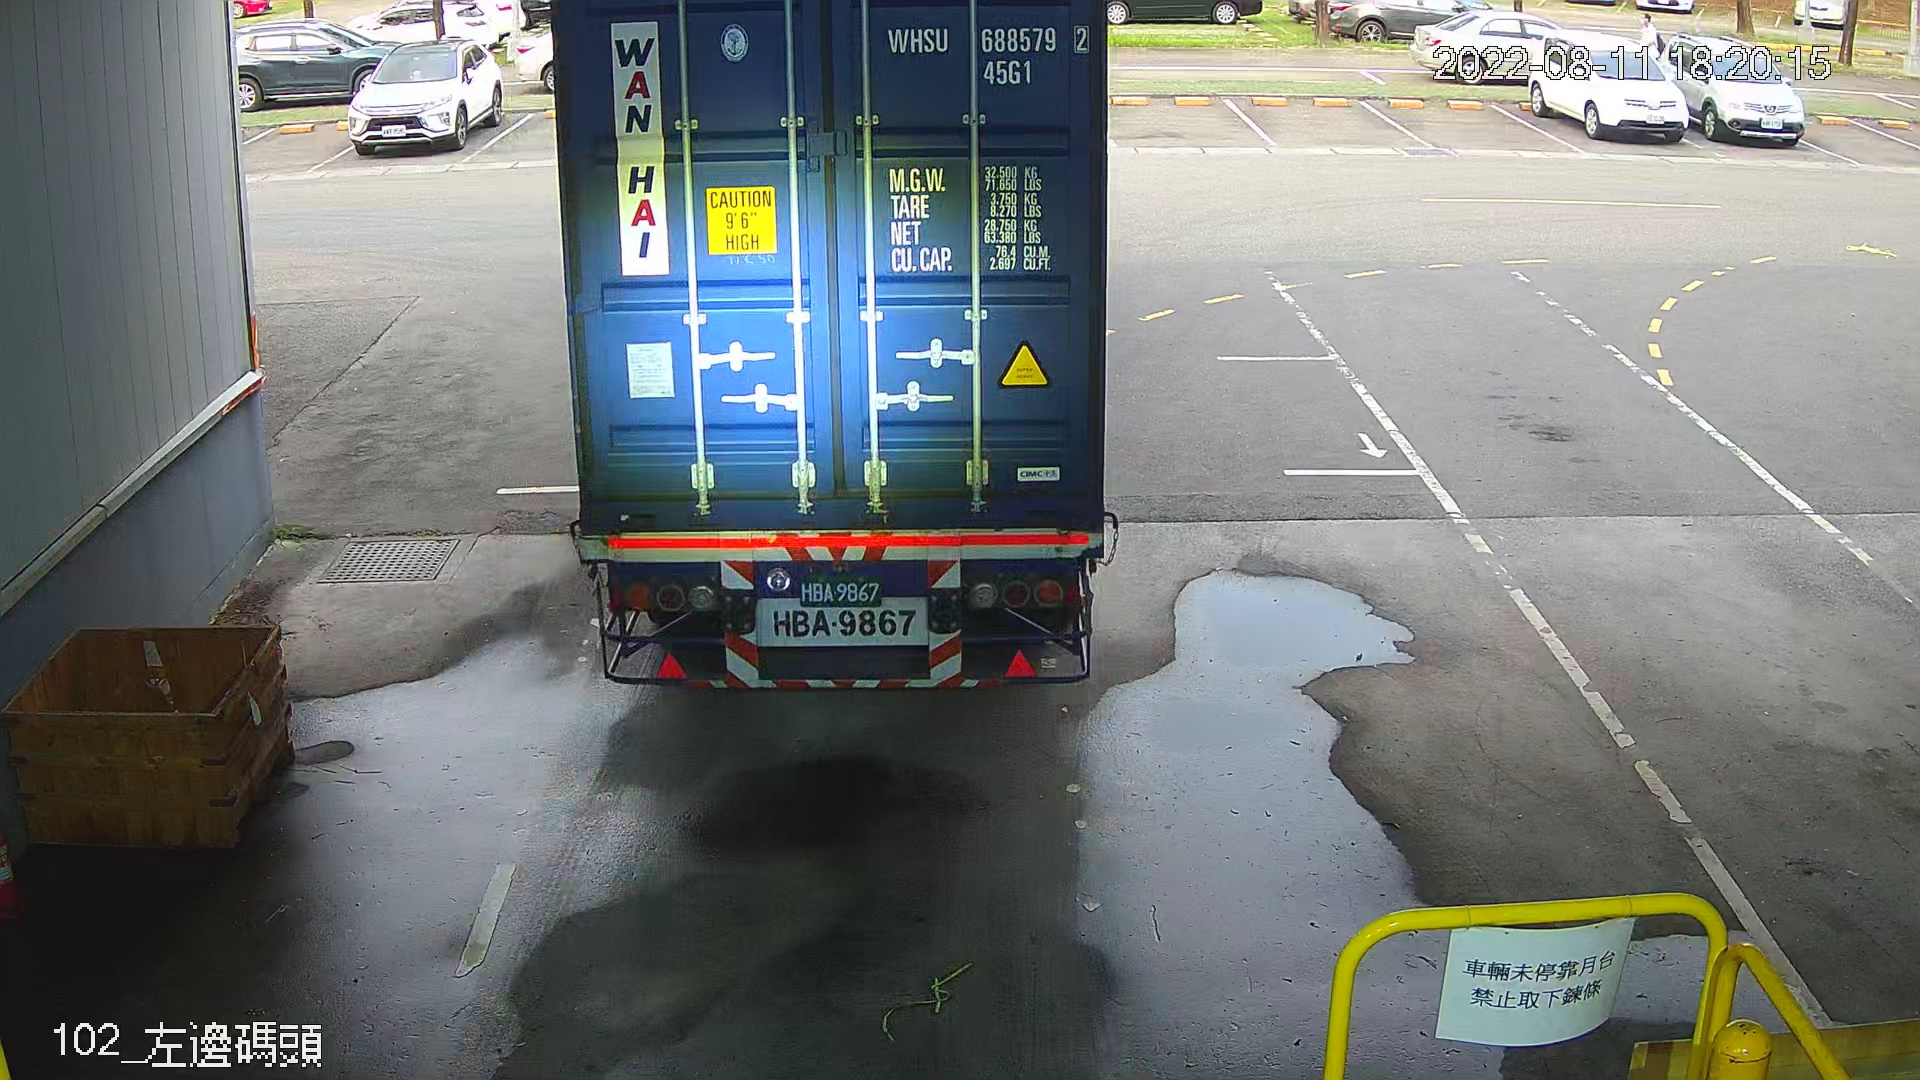container: (881, 18, 1097, 95)
